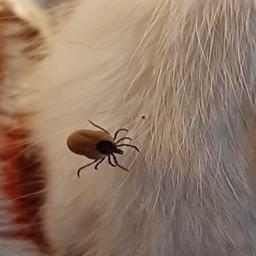Rhipicephalus sanguineus: (65, 119, 140, 178)
